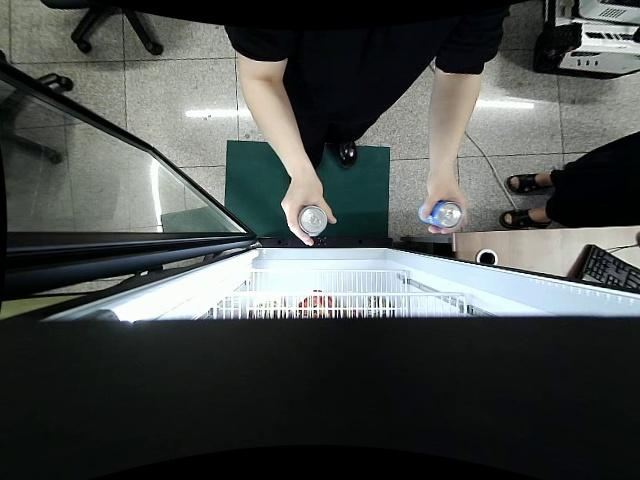00_hand: (281, 179, 337, 247), (421, 171, 469, 235)
15_letsbe: (417, 201, 462, 227)
